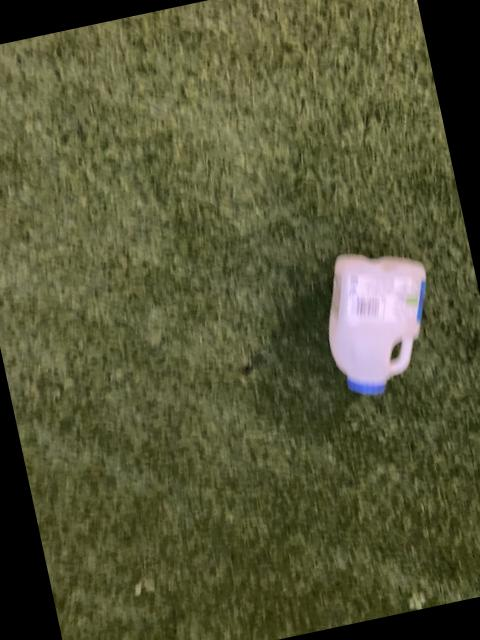plastic: (331, 255, 427, 396)
